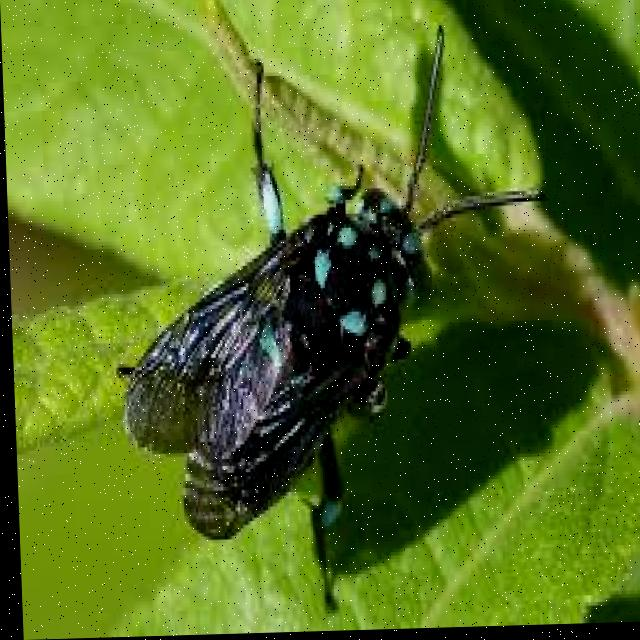Thyreus: (116, 28, 495, 541)
